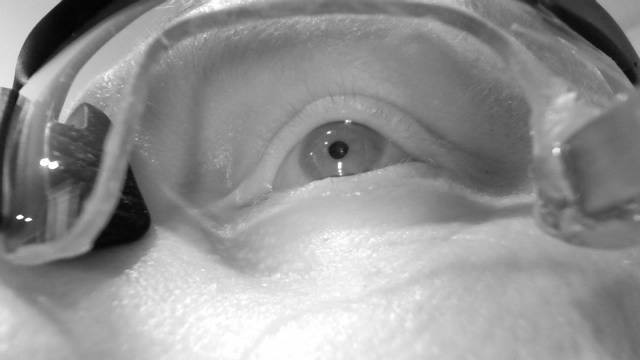pupil: (328, 140, 350, 160)
